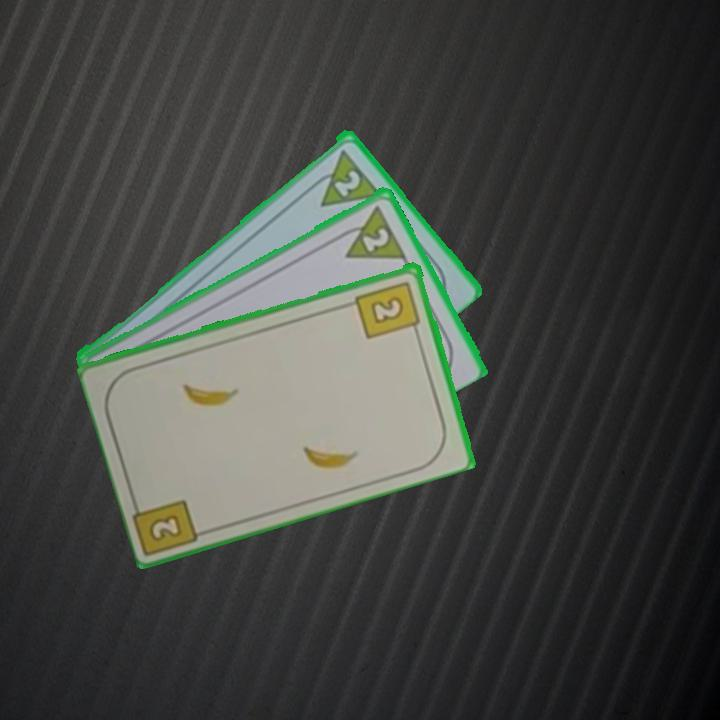2b: (352, 277, 424, 341), (145, 510, 186, 545)
2p: (332, 201, 409, 262), (330, 166, 364, 199)
